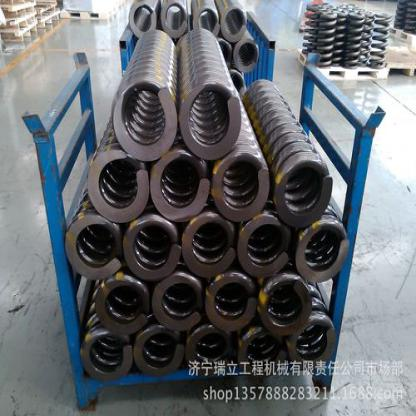FOD: (240, 77, 335, 234), (109, 28, 180, 163)
